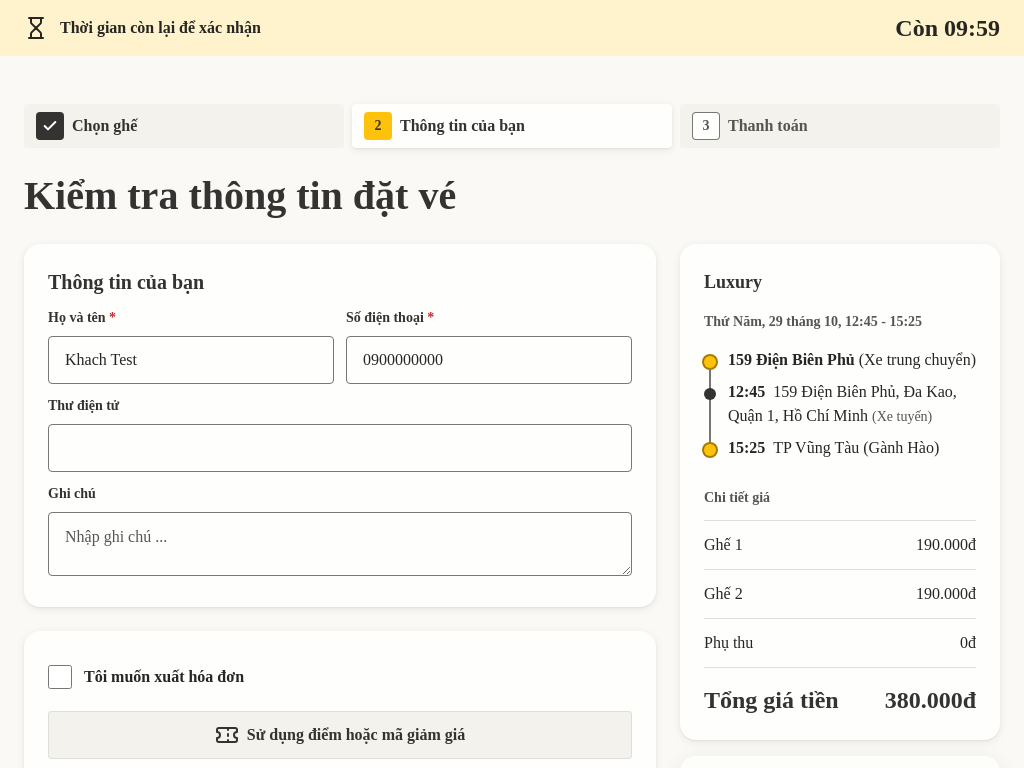
Test: ConfirmPage: kiểm tra form chặn gửi › thiếu số điện thoại → cảnh báo, không gửi booking
Clear the field labelled "Số điện thoại *" at [489, 360], box [346,336,632,384]
(page scrolled)
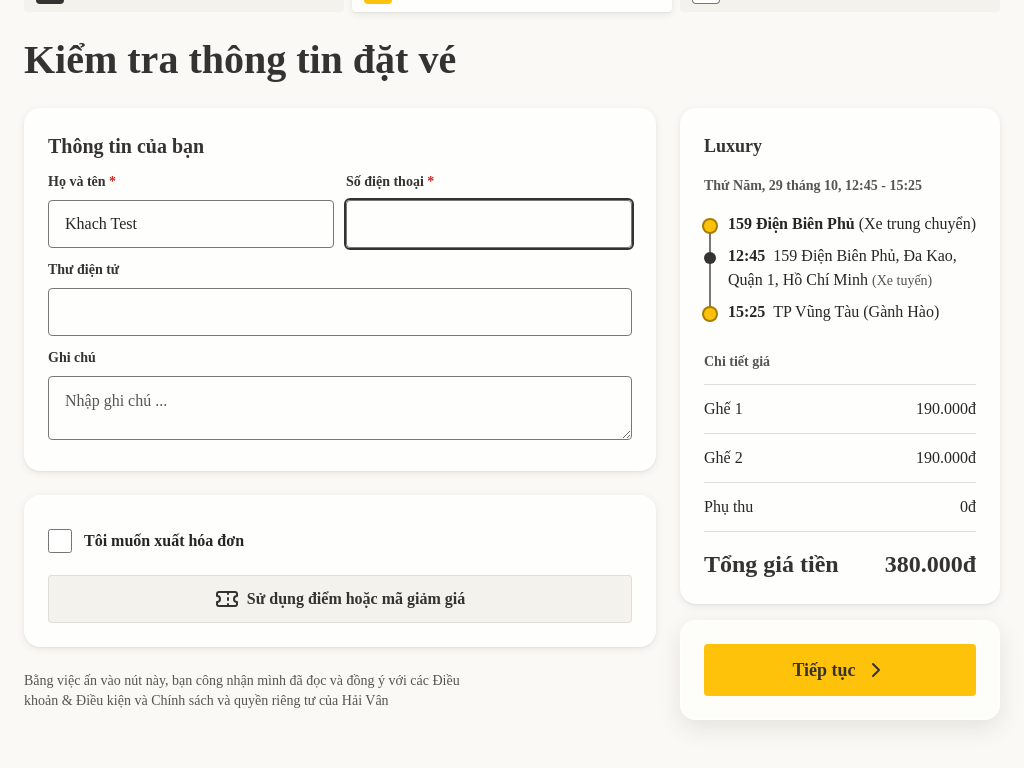
Click the button "Tiếp tục" at [840, 670], box [704,644,976,696]
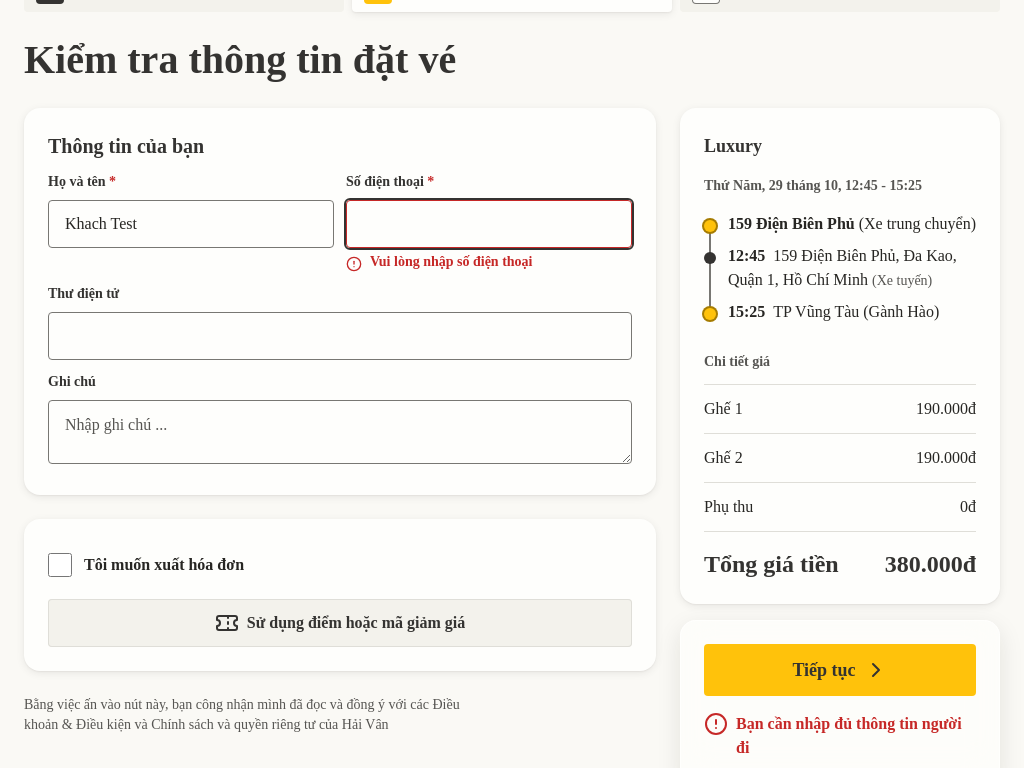
Check: the text "Bạn cần nhập đủ thông tin người đi" is shown, box [704,712,976,760]
